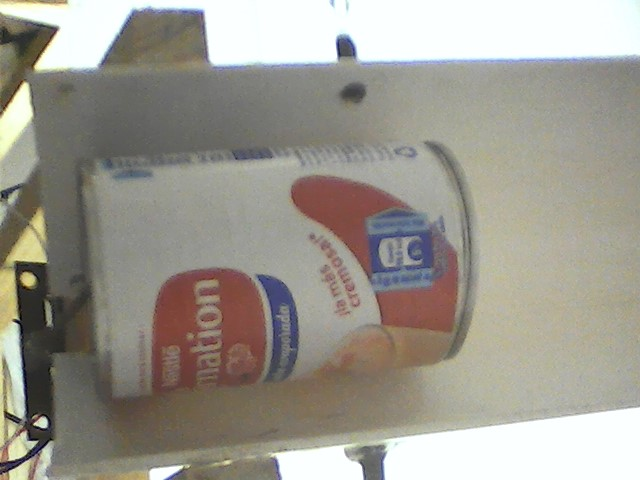lata: (68, 134, 489, 408)
